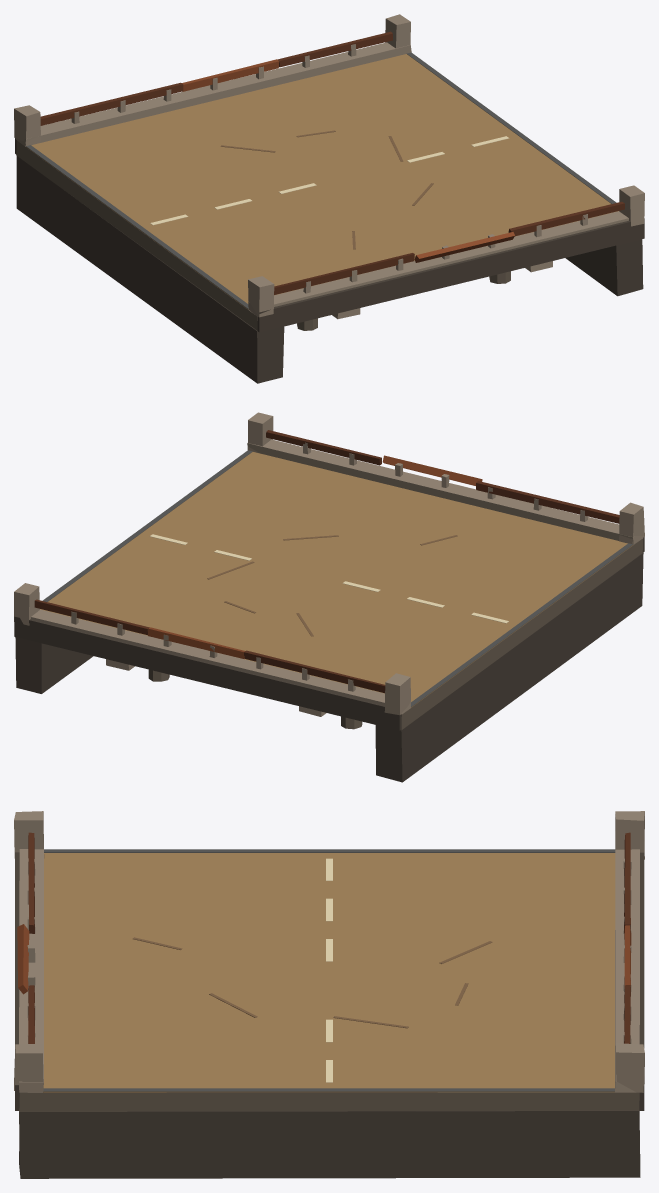
The model's file is road_bridge.glb.
3 renders of one model, top to bottom at view 1: azimuth 30°, elevation 25°; view 2: azimuth 150°, elevation 25°; view 3: azimuth 270°, elevation 25°, orthographic. The views are drawn at different scales.
Visible parts, largest first — view 1: road_bridge; view 2: road_bridge; view 3: road_bridge.
Boxes of the visible parts, bbox=[...] form: road_bridge: bbox=[14, 14, 644, 383]; road_bridge: bbox=[14, 412, 644, 782]; road_bridge: bbox=[14, 811, 644, 1178].
Bounding box in the file's own units: 24.09 × 5.91 × 26.47.
